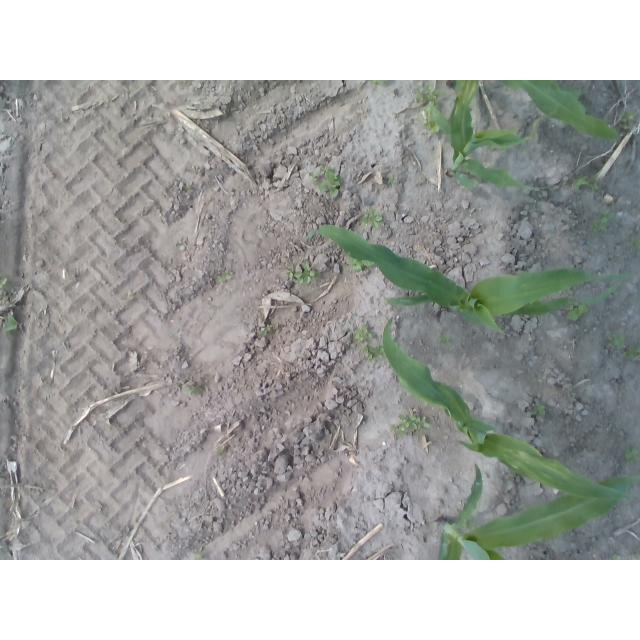Maize: (380, 316, 637, 501), (301, 226, 631, 339), (437, 464, 640, 561), (445, 81, 551, 200), (448, 81, 623, 148)
Weeds: (309, 165, 344, 197), (391, 414, 430, 439), (284, 263, 320, 285), (417, 106, 440, 133), (414, 83, 442, 105), (590, 210, 614, 233), (346, 255, 375, 273), (360, 209, 385, 228), (571, 175, 599, 191), (566, 303, 590, 321), (618, 110, 636, 133), (559, 82, 582, 100), (362, 345, 387, 360), (353, 325, 371, 343), (530, 399, 547, 417), (2, 314, 18, 333), (624, 445, 640, 463), (607, 332, 625, 348), (622, 347, 640, 358), (438, 332, 451, 345), (193, 548, 206, 561), (185, 386, 203, 395), (0, 275, 8, 294), (214, 446, 226, 458), (218, 271, 230, 282), (260, 325, 272, 336), (176, 240, 186, 251), (128, 289, 137, 300), (632, 236, 640, 248), (387, 175, 396, 185), (368, 80, 388, 84), (611, 553, 621, 560), (185, 180, 193, 188)
